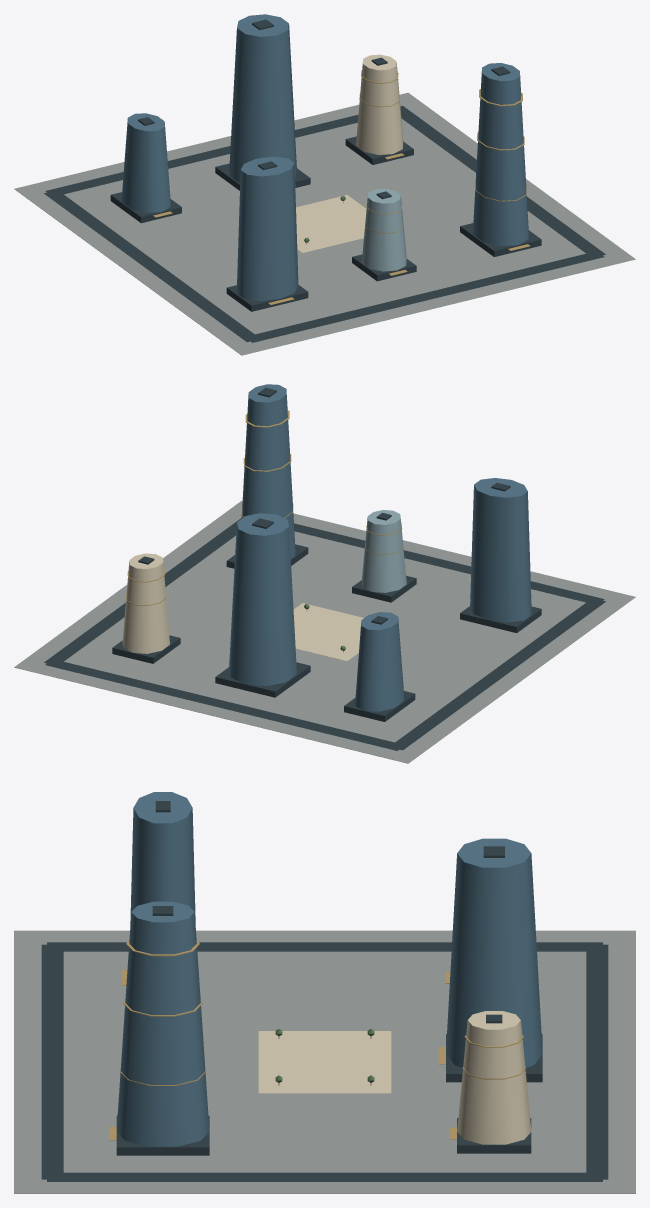
File: GC-TILE-11-12.glb
3 views of the same model, one above another, from view 1: azimuth 30°, elevation 25°; view 2: azimuth 150°, elevation 25°; view 3: azimuth 270°, elevation 25° (orthographic). The views are drawn at different scales.
Parts seen in each view (by area): view 1: GC-TILE-11-12-paving, GC-TILE-11-12-blue, GC-TILE-11-12-dark, GC-TILE-11-12-ivory, GC-TILE-11-12-glass, GC-TILE-11-12-gold; view 2: GC-TILE-11-12-paving, GC-TILE-11-12-blue, GC-TILE-11-12-dark, GC-TILE-11-12-ivory, GC-TILE-11-12-glass, GC-TILE-11-12-gold; view 3: GC-TILE-11-12-paving, GC-TILE-11-12-blue, GC-TILE-11-12-dark, GC-TILE-11-12-ivory, GC-TILE-11-12-gold.
Boxes of the visible parts, x1,y1,x2,y2 form: GC-TILE-11-12-paving: [14, 92, 635, 355]; GC-TILE-11-12-blue: [122, 14, 528, 301]; GC-TILE-11-12-dark: [44, 19, 605, 342]; GC-TILE-11-12-ivory: [296, 54, 403, 252]; GC-TILE-11-12-glass: [361, 188, 406, 271]; GC-TILE-11-12-gold: [153, 70, 530, 304]; GC-TILE-11-12-paving: [14, 501, 635, 763]; GC-TILE-11-12-blue: [229, 384, 531, 711]; GC-TILE-11-12-dark: [44, 387, 605, 750]; GC-TILE-11-12-ivory: [122, 553, 363, 661]; GC-TILE-11-12-glass: [361, 510, 406, 592]; GC-TILE-11-12-gold: [126, 410, 407, 690]; GC-TILE-11-12-paving: [14, 930, 635, 1193]; GC-TILE-11-12-blue: [116, 792, 542, 1146]; GC-TILE-11-12-dark: [41, 801, 608, 1181]; GC-TILE-11-12-ivory: [258, 1011, 531, 1144]; GC-TILE-11-12-gold: [109, 940, 525, 1140].
Bounding box in the file's own units: 338 × 138 × 338.
